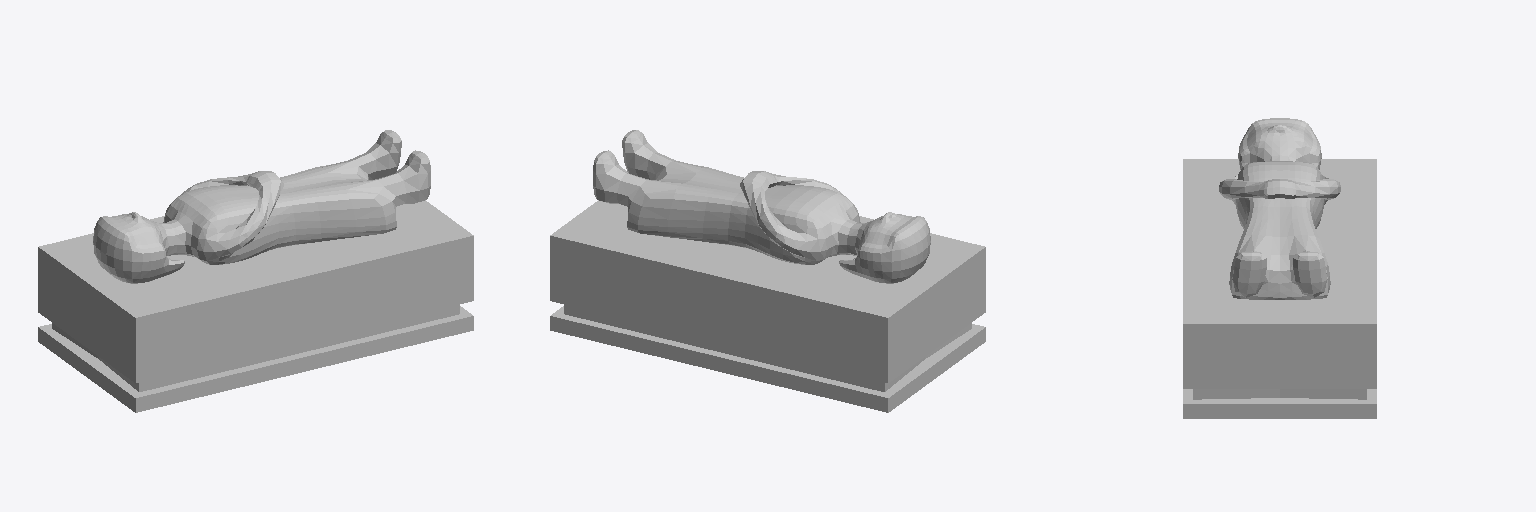
File: Ataud.obj
3 renders of one model, left to right at view 1: azimuth 30°, elevation 25°; view 2: azimuth 150°, elevation 25°; view 3: azimuth 270°, elevation 25°, orthographic.
Parts seen in each view (by area): view 1: Ataud_Ataud_Cube; view 2: Ataud_Ataud_Cube; view 3: Ataud_Ataud_Cube.
Part boxes in pixels (left/top/right/bottom): Ataud_Ataud_Cube: left=38, top=130, right=473, bottom=412; Ataud_Ataud_Cube: left=550, top=130, right=985, bottom=412; Ataud_Ataud_Cube: left=1183, top=118, right=1376, bottom=418.
Bounding box in the file's own units: 3.83 × 1.73 × 1.91.